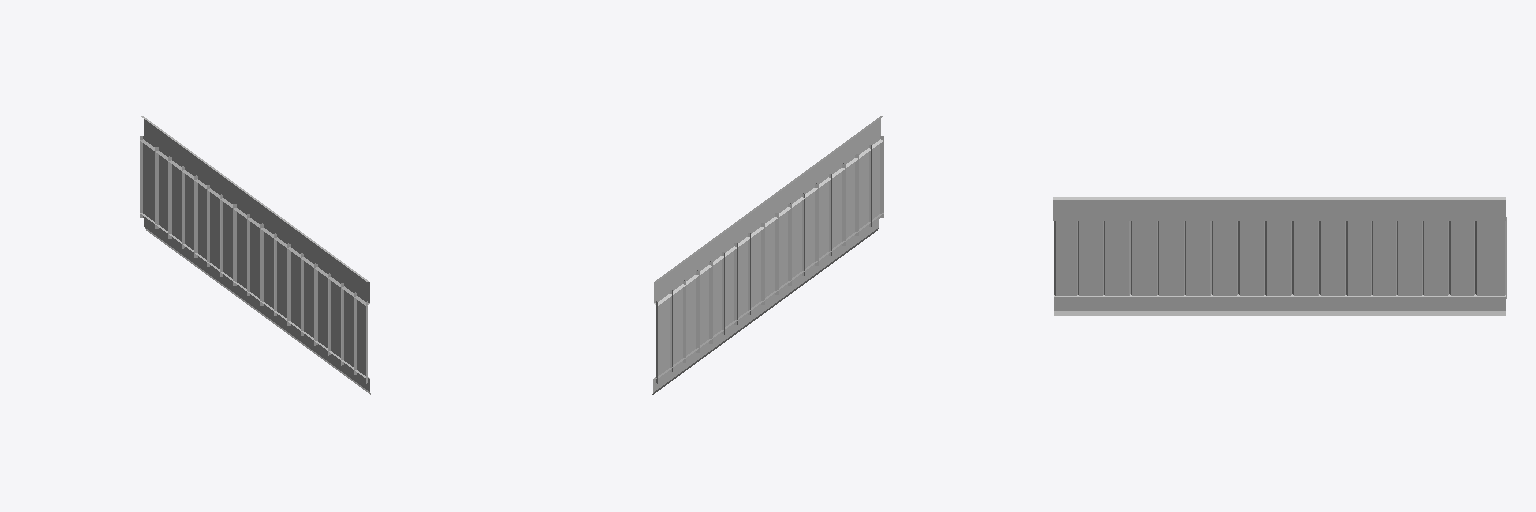
Rendered from detail wall.obj.
3 views of the same model, side by side, from view 1: azimuth 30°, elevation 25°; view 2: azimuth 150°, elevation 25°; view 3: azimuth 270°, elevation 25° (orthographic).
Parts seen in each view (by area): view 1: Plane.000_Plane.002; view 2: Plane.000_Plane.002; view 3: Plane.000_Plane.002.
Boxes of the visible parts, x1,y1,x2,y2 form: Plane.000_Plane.002: [140, 116, 370, 394]; Plane.000_Plane.002: [652, 116, 883, 394]; Plane.000_Plane.002: [1053, 197, 1506, 315].
Size of the model in its own units: 0.0862 by 1.42 by 5.01.